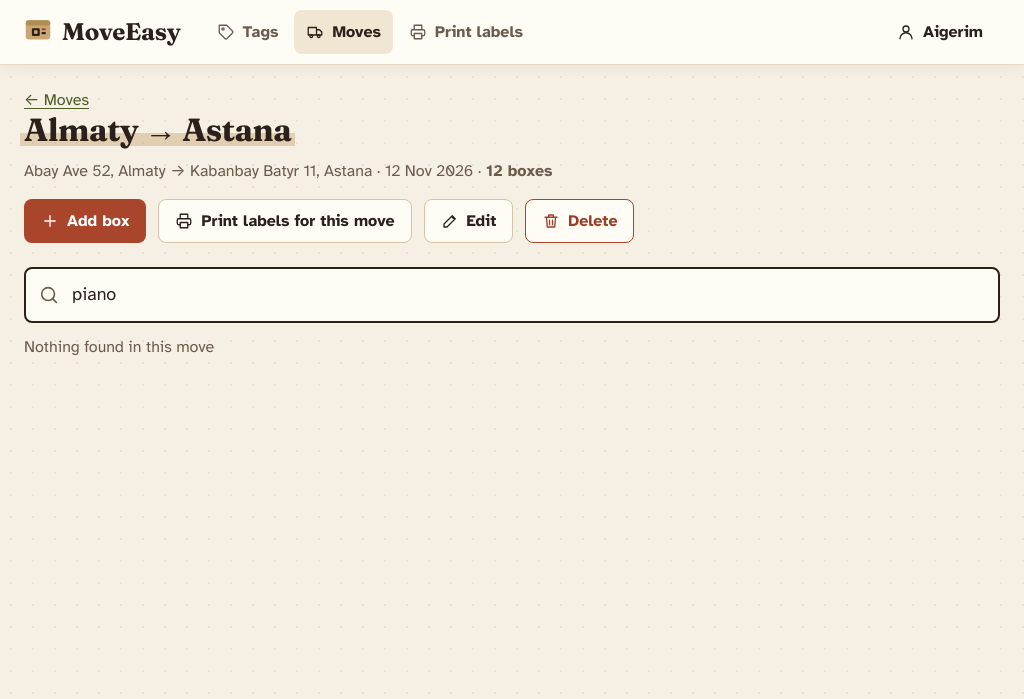
Scenario: move search › says when nothing is found and goes back to rooms when cleared
expect the text "Nothing found in this move" is shown: met, box [24,337,214,357]
Clear the search field named "Where is my..." at (512, 295), box [24,267,1000,323]
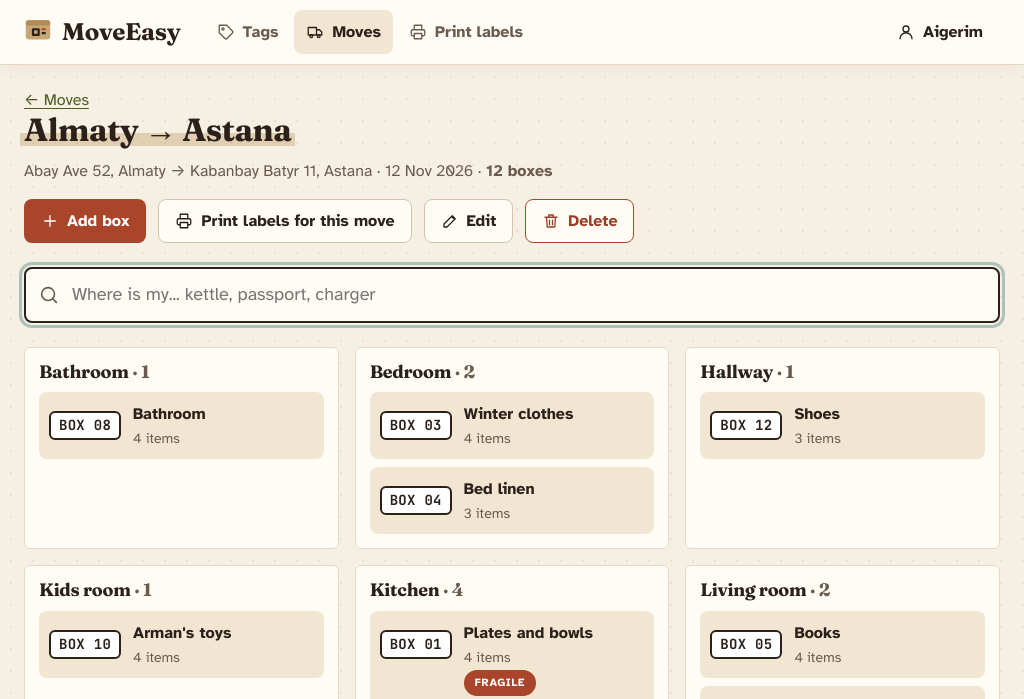
expect the heading "Kitchen · 4" is shown: met, box [370,578,464,602]
